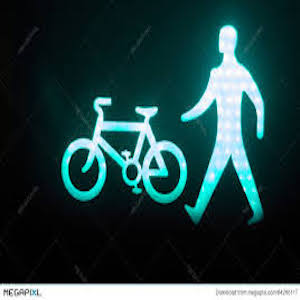green: (52, 14, 275, 227)
